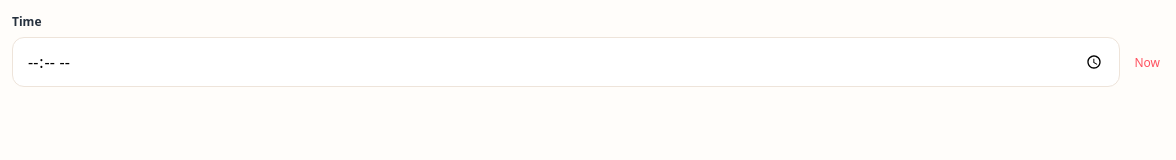
Test: TimeField › sets the current time with Now and removes it with Clear
Click the button with aria-label "Set to the current time".
click(1147, 62)  # box [1130,50,1164,74]
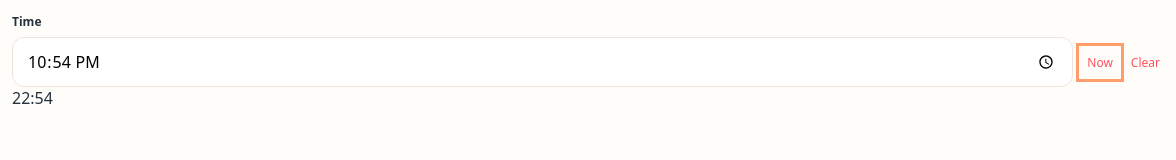
Click the button with aria-label "Clear the time".
click(1145, 62)  # box [1127,50,1164,74]
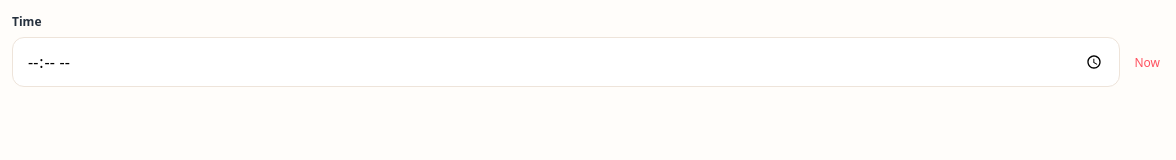
Expected: the time field labelled "Time" is empty, [12,37,1120,87]
